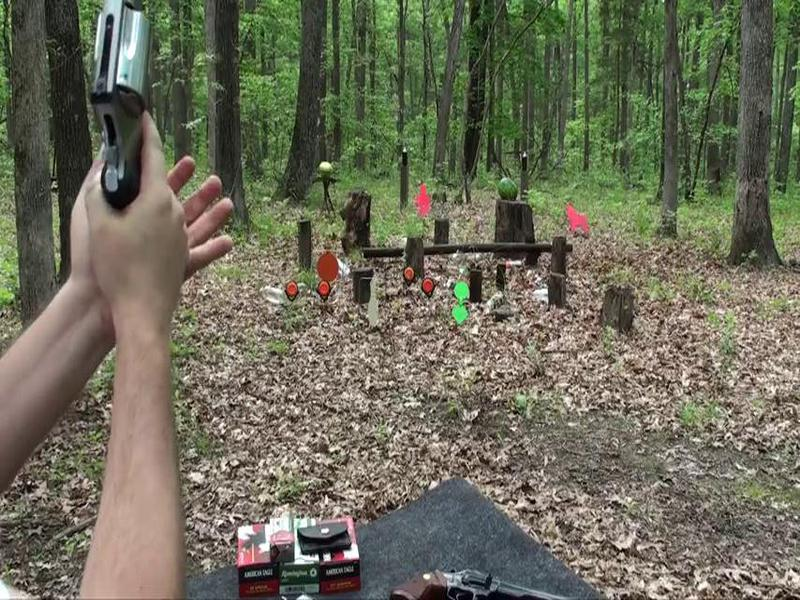Revolver: (65, 1, 200, 211)
